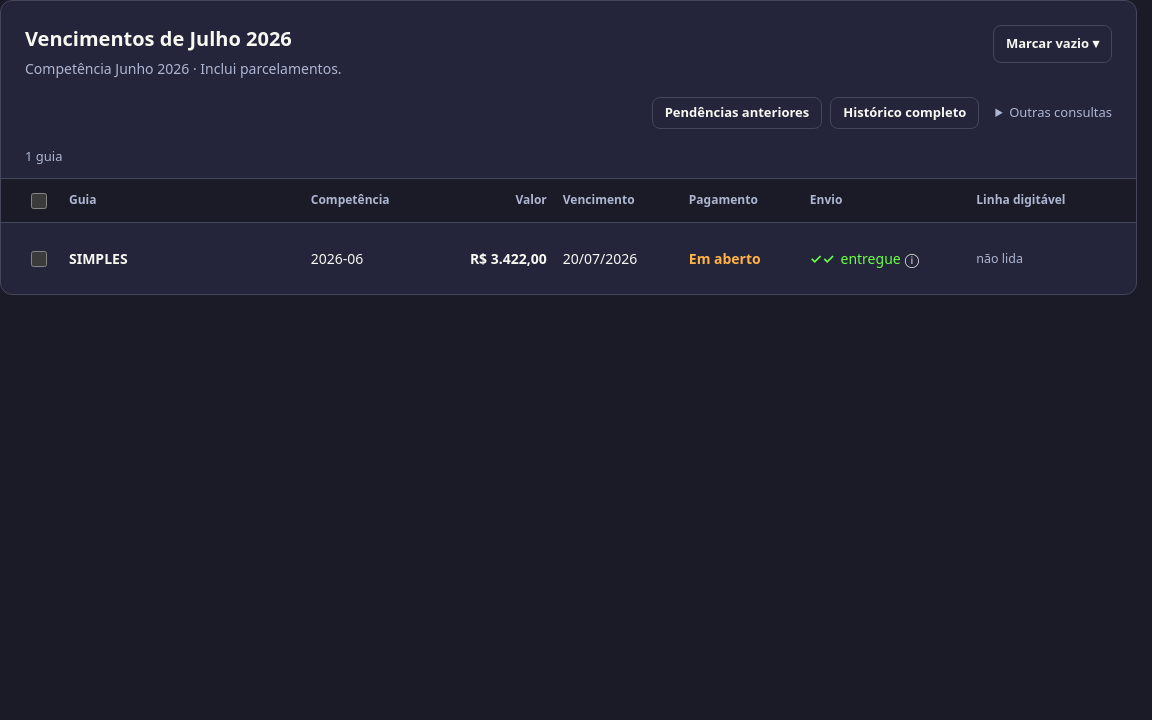
Scenario: ⚠⚠ o aviso de reenvio vale para QUALQUER canal › guia enviada SÓ por WhatsApp abre o aviso — e nomeia o canal certo
Click the checkbox named "Selecionar guia". click: (39, 258)
box: [31,250,47,266]
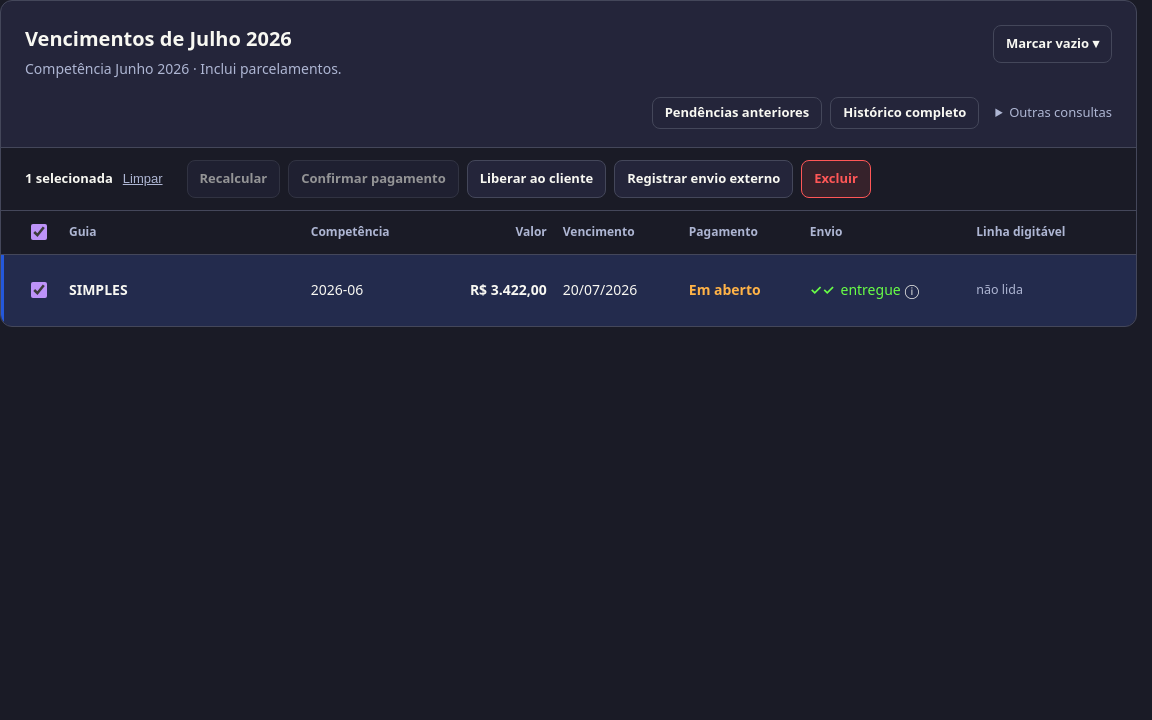
Click the button "Liberar ao cliente". click: (537, 178)
box: [467,160,606,198]
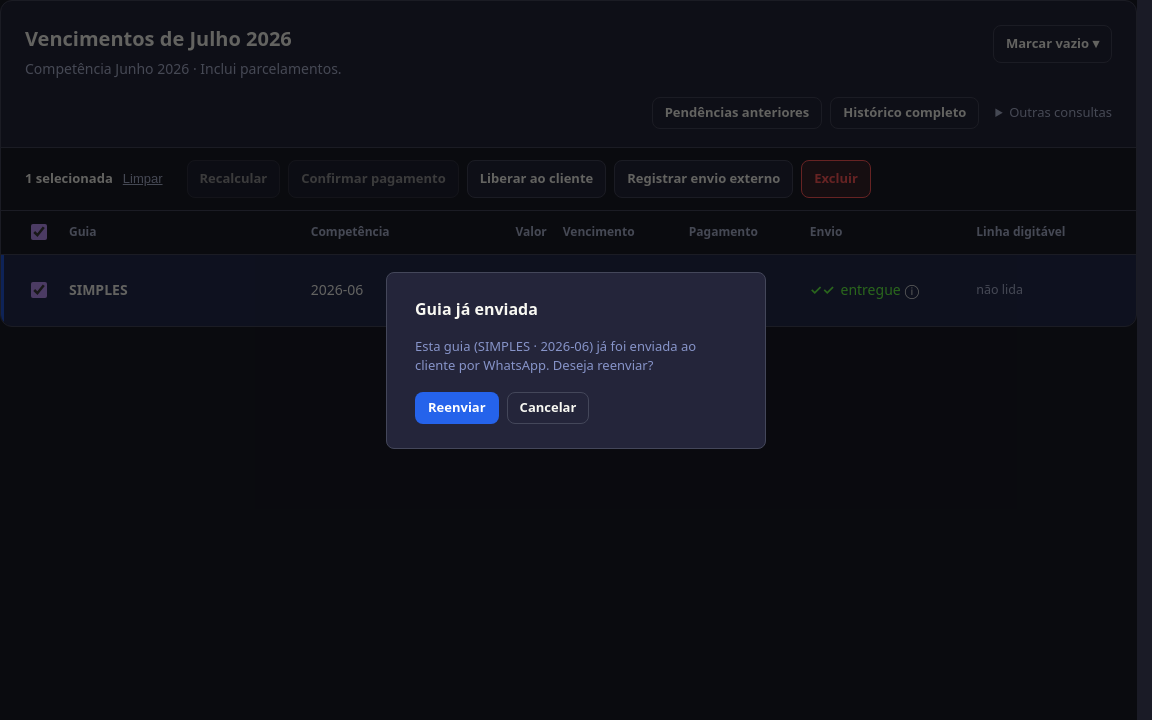
Check: the heading "Guia já enviada" is shown, box [415,298,538,320]
Check: the text "por WhatsApp" is shown, box [455,356,546,374]
